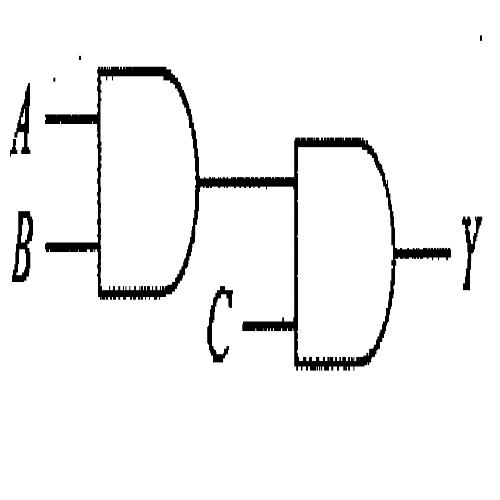and: (92, 55, 204, 314), (288, 122, 401, 378)
